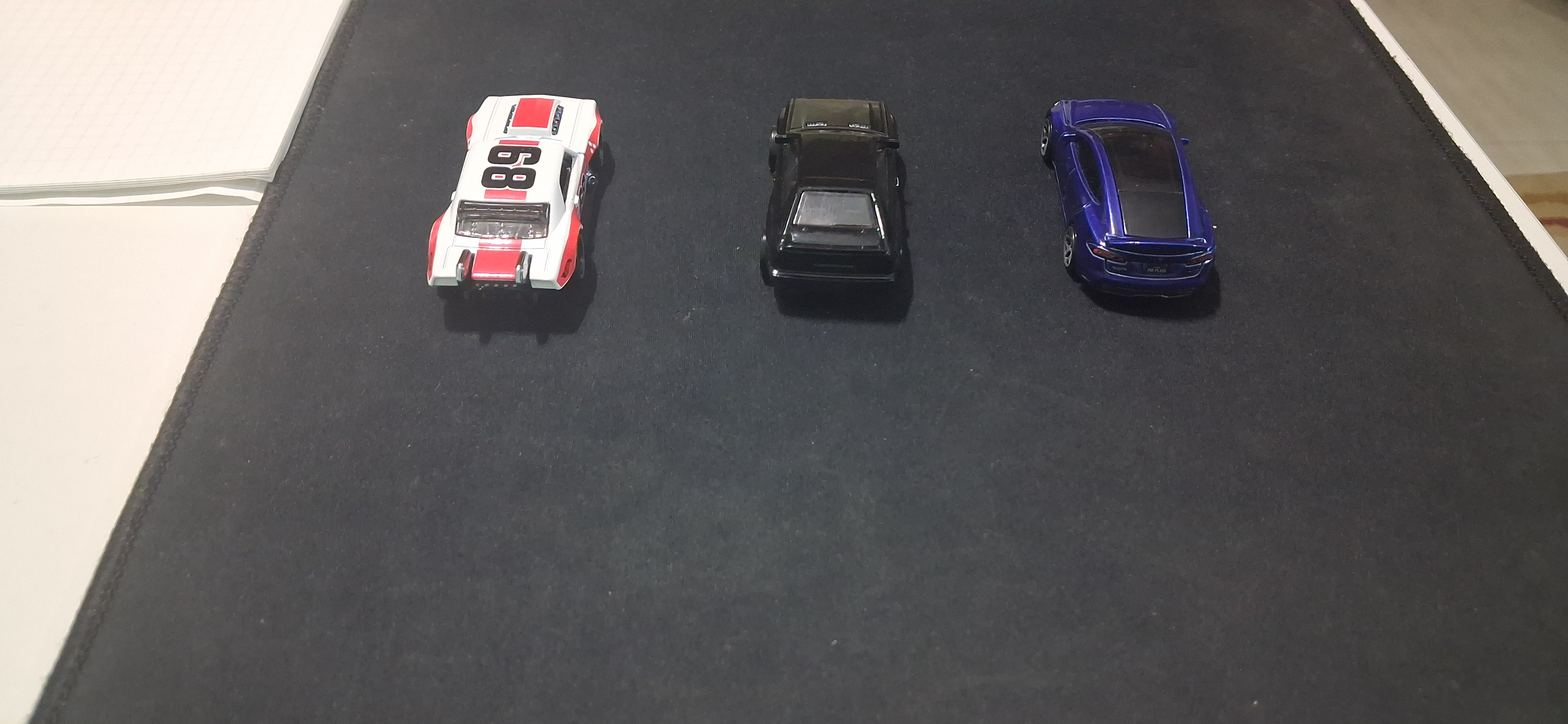Audi_Quattro: (736, 67, 933, 367)
Camaro: (428, 55, 629, 346)
Tesla_Model_S_Plaid: (1015, 79, 1236, 324)
